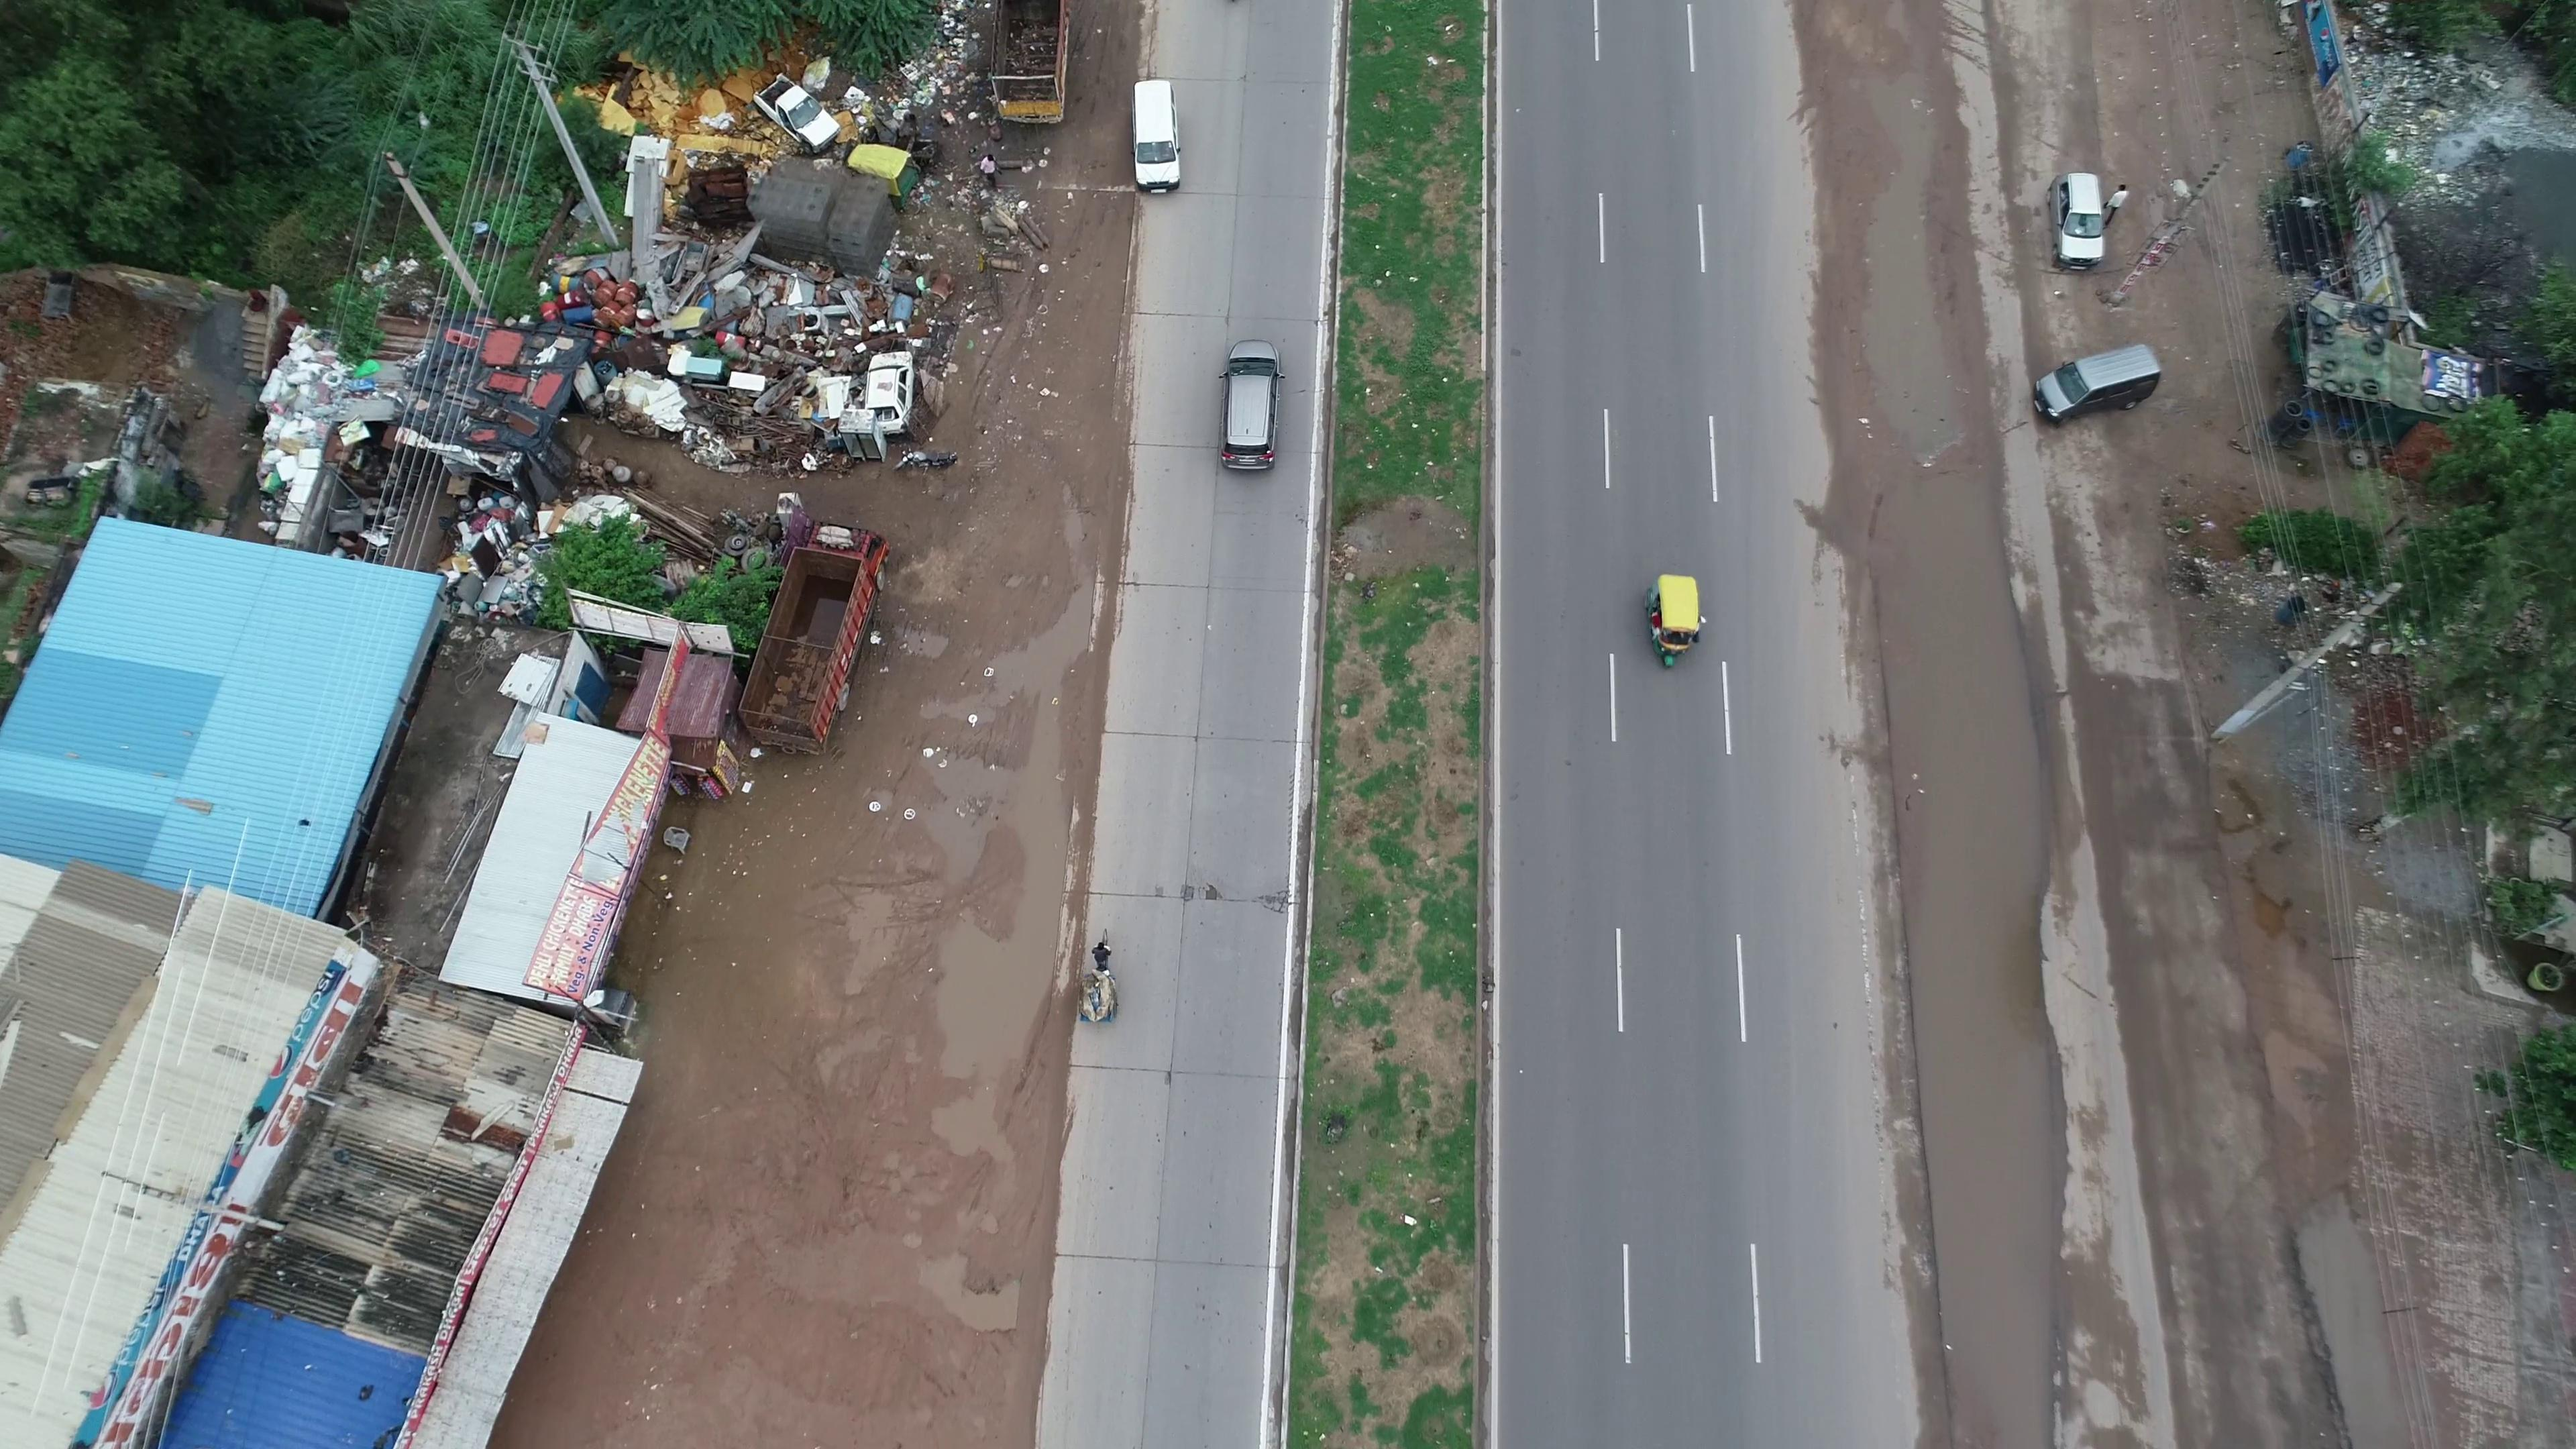Waterlogging: (1893, 508, 2077, 1421)
